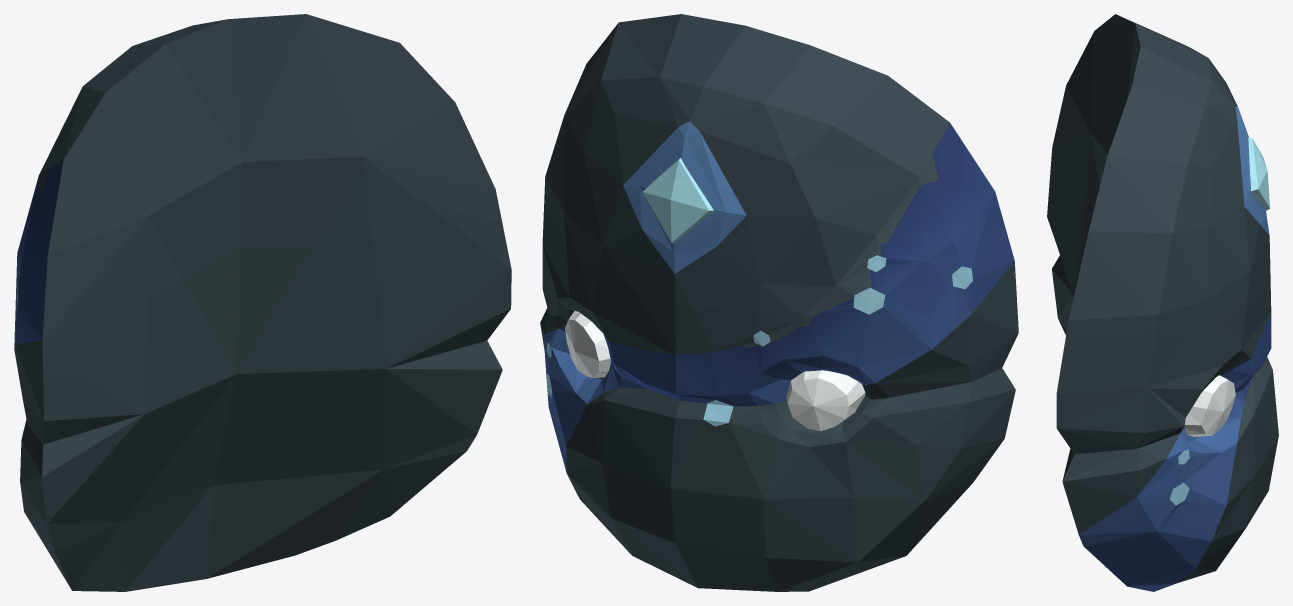
Rendered from CharSkyKid_Mask_Ocean.glb.
The picture shows the model from 3 angles, left to right: view 1: azimuth 30°, elevation 25°; view 2: azimuth 150°, elevation 25°; view 3: azimuth 270°, elevation 25°; orthographic projection. The views are drawn at different scales.
Parts seen in each view (by area): view 1: CharSkyKid_Mask_Ocean; view 2: CharSkyKid_Mask_Ocean; view 3: CharSkyKid_Mask_Ocean.
Boxes of the visible parts, x1,y1,x2,y2 form: CharSkyKid_Mask_Ocean: [14, 14, 511, 591]; CharSkyKid_Mask_Ocean: [540, 14, 1018, 591]; CharSkyKid_Mask_Ocean: [1047, 14, 1278, 591].
Size of the model in its own units: 2.14 by 2.5 by 1.02.
1 material, 1 textured.
